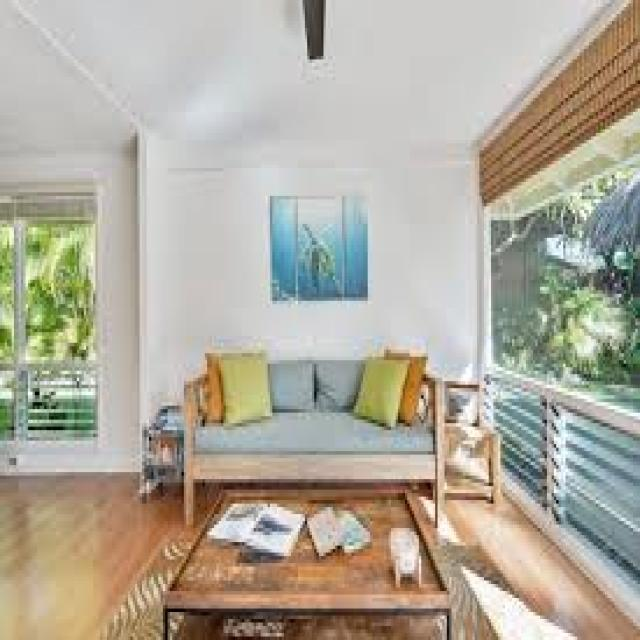Sofa: (169, 334, 449, 515)
Table: (156, 465, 461, 640)
